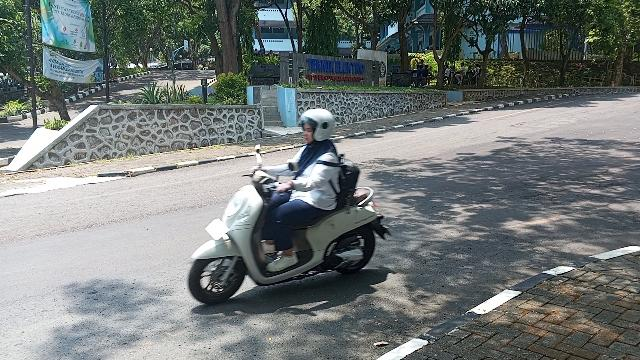helm: (299, 109, 338, 147)
motor: (188, 143, 394, 308)
